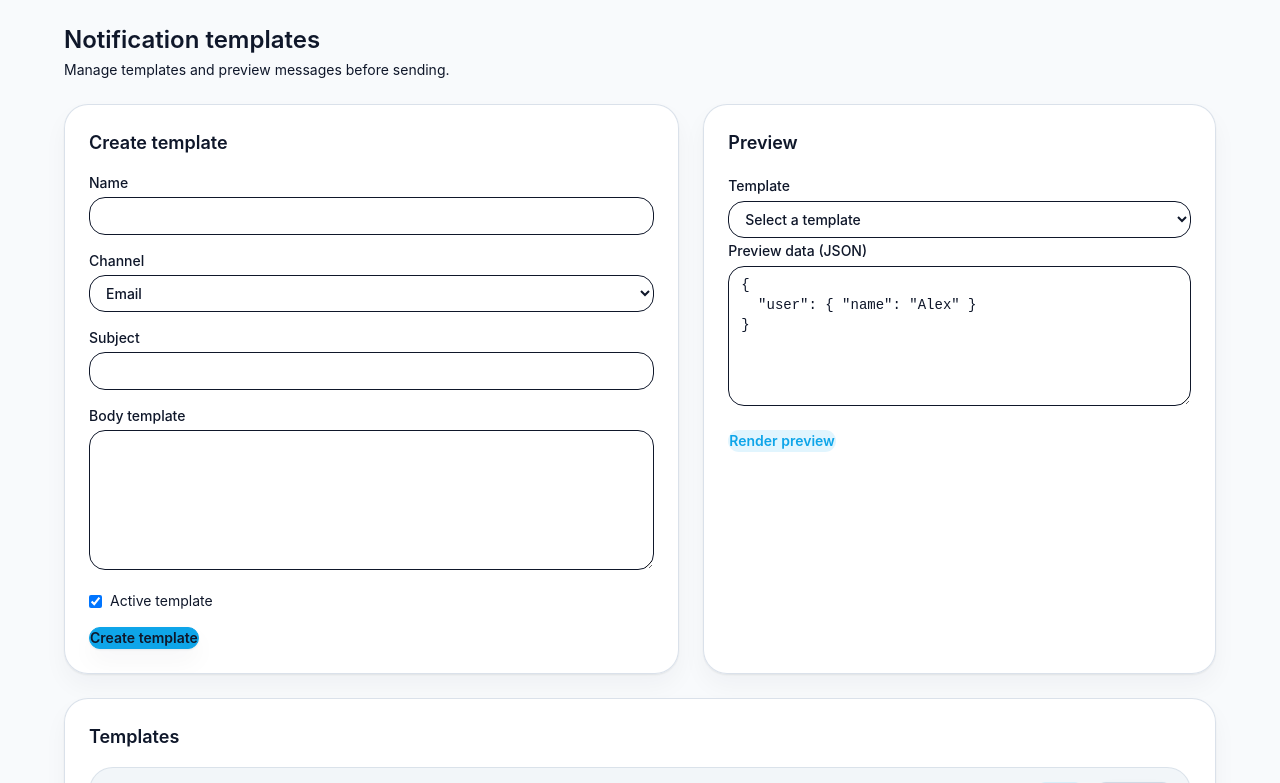
admin notifications page › shows validation errors when required fields are missing
What coordinates should you click on to do the following:
click the button "Create template"
I would click on:
 (144, 638)
Its box is [89,627,199,649].
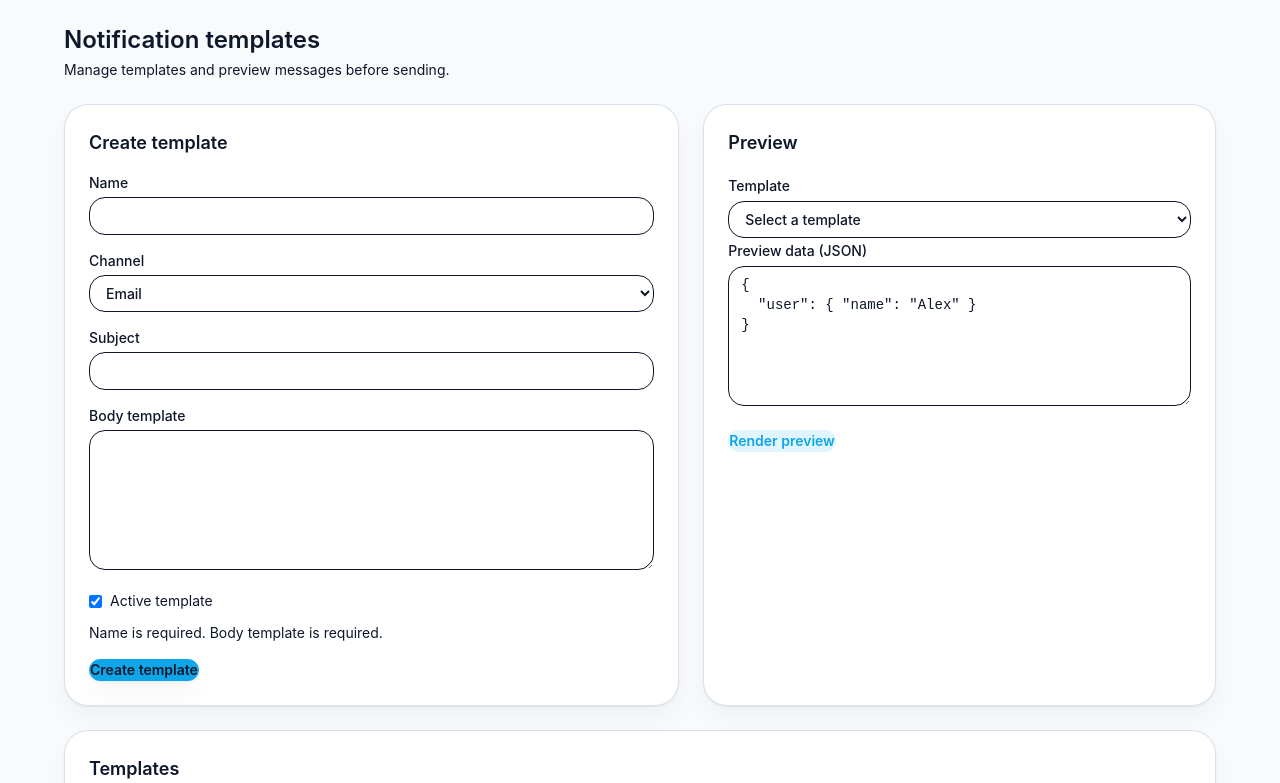
Now the message shows "Name is required.", box [89,624,383,641]
Now the message shows "Body template is required.", box [89,624,383,641]
